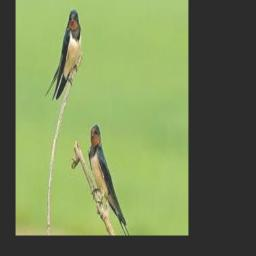Swallow: (88, 124, 130, 236), (46, 9, 82, 101)
